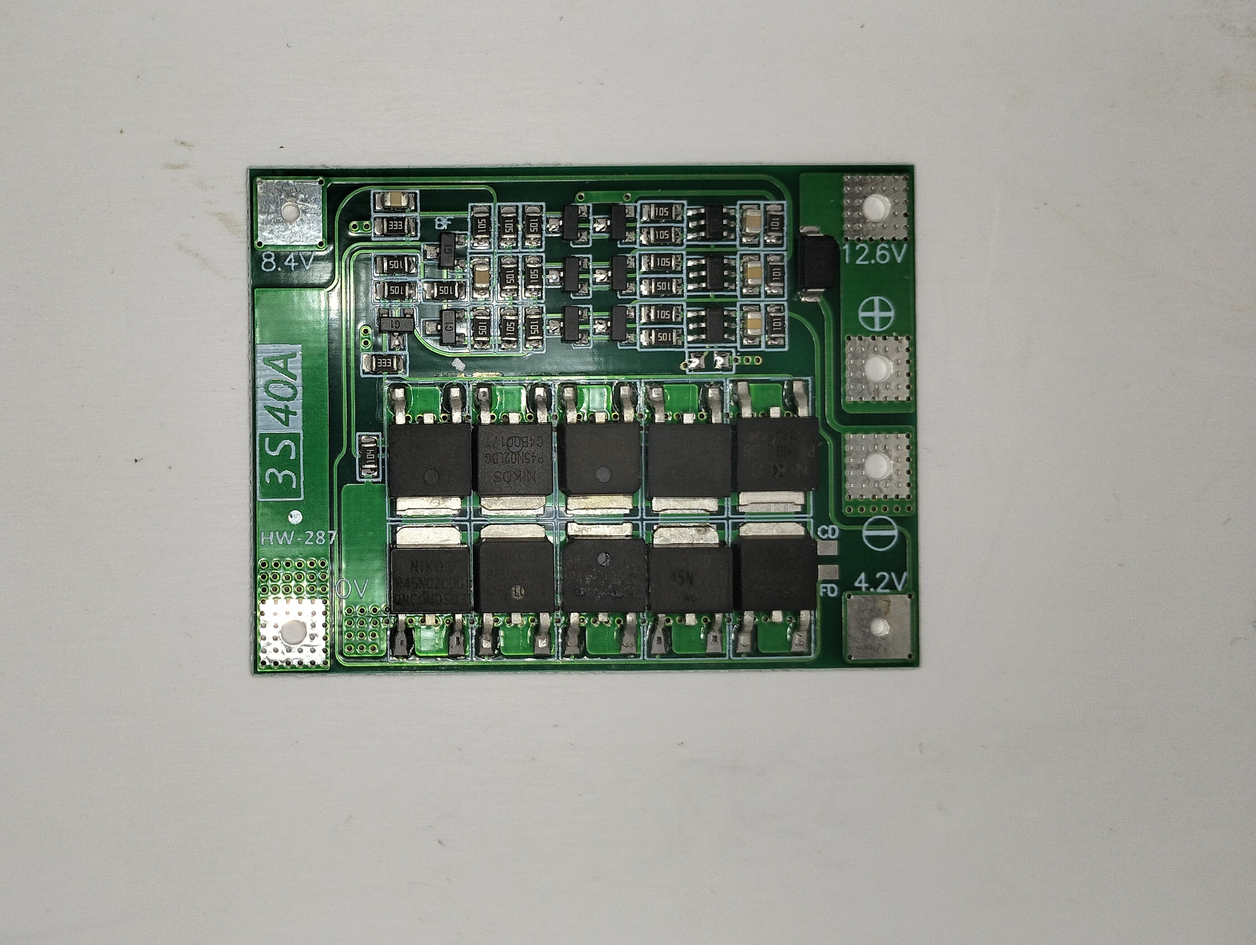C: (736, 205, 763, 247), (466, 256, 492, 298), (739, 307, 765, 349), (738, 255, 764, 297), (371, 189, 419, 211)
R 105: (371, 254, 421, 278), (637, 326, 687, 350), (636, 303, 686, 327), (636, 274, 686, 298), (636, 250, 686, 274), (635, 224, 685, 248), (637, 199, 687, 223), (419, 279, 469, 303), (370, 279, 420, 303), (493, 308, 519, 350), (494, 258, 520, 300), (498, 206, 524, 248), (468, 205, 494, 246), (522, 311, 548, 352), (471, 310, 497, 351), (521, 254, 547, 295), (524, 204, 550, 245)
R EEE: (371, 216, 421, 241), (363, 353, 408, 377)
R101: (765, 201, 787, 250), (765, 303, 787, 352), (764, 252, 786, 301)
R104: (354, 433, 382, 480)
diode: (798, 226, 834, 305)
ic 1: (384, 521, 471, 662), (560, 521, 647, 662), (646, 521, 733, 662), (384, 379, 471, 519), (470, 517, 557, 657), (733, 518, 820, 658), (733, 378, 820, 518), (647, 381, 734, 521), (558, 381, 645, 521), (469, 379, 556, 519)
ic 2: (685, 204, 738, 243), (686, 307, 739, 346), (685, 255, 738, 294)
transitor: (544, 305, 591, 348), (423, 231, 470, 274), (373, 305, 420, 348), (423, 306, 470, 349), (594, 305, 641, 348), (594, 203, 641, 245), (544, 204, 591, 246), (547, 252, 594, 294), (592, 254, 638, 296)
